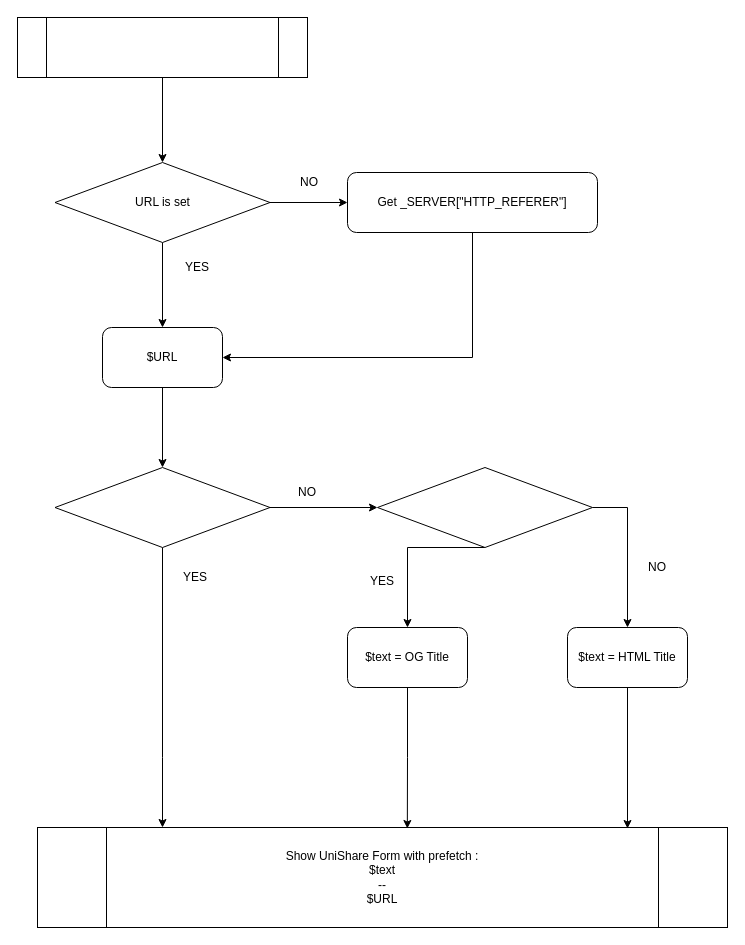
Image size: 745x945. Some labels were removed from this diagram. The shapes that lost their labels are listed below. From the top down, each one's centre as x and y in pixels, then its label:
At (x=162, y=47): "Click on Website Unishare Button".
At (x=162, y=507): "text is set".
At (x=484, y=507): "Get OpenGraph ?".
